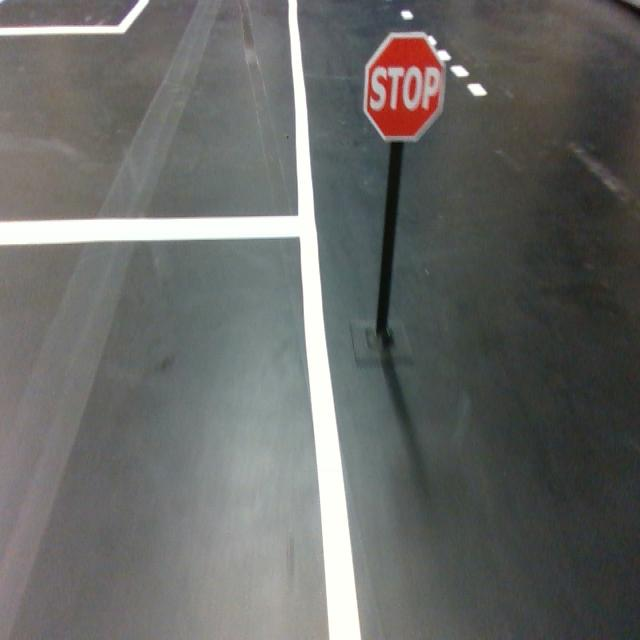stop-sign: (363, 30, 445, 144)
